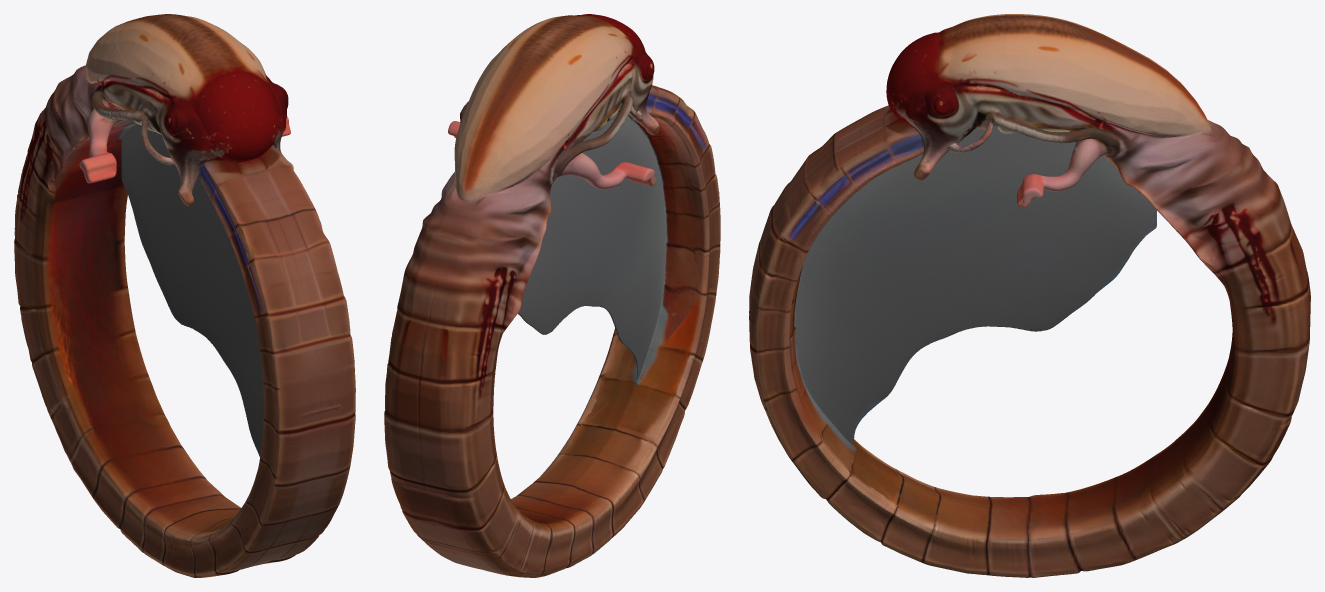
Rendered from oroborus.glb.
The picture shows the model from 3 angles, left to right: view 1: azimuth 30°, elevation 25°; view 2: azimuth 150°, elevation 25°; view 3: azimuth 270°, elevation 25°; orthographic projection. The views are drawn at different scales.
Visible parts, largest first — view 1: tripo_node_abfc1ce3-cc0c-466c-9603-73135dc67ebd; view 2: tripo_node_abfc1ce3-cc0c-466c-9603-73135dc67ebd; view 3: tripo_node_abfc1ce3-cc0c-466c-9603-73135dc67ebd.
Part boxes in pixels (x1,y1,x2,y2): tripo_node_abfc1ce3-cc0c-466c-9603-73135dc67ebd: [14, 14, 355, 577]; tripo_node_abfc1ce3-cc0c-466c-9603-73135dc67ebd: [384, 14, 720, 577]; tripo_node_abfc1ce3-cc0c-466c-9603-73135dc67ebd: [749, 14, 1310, 577].
Size of the model in its own units: 0.407 by 1 by 0.9438.
Materials: 1 (1 with a texture image).
